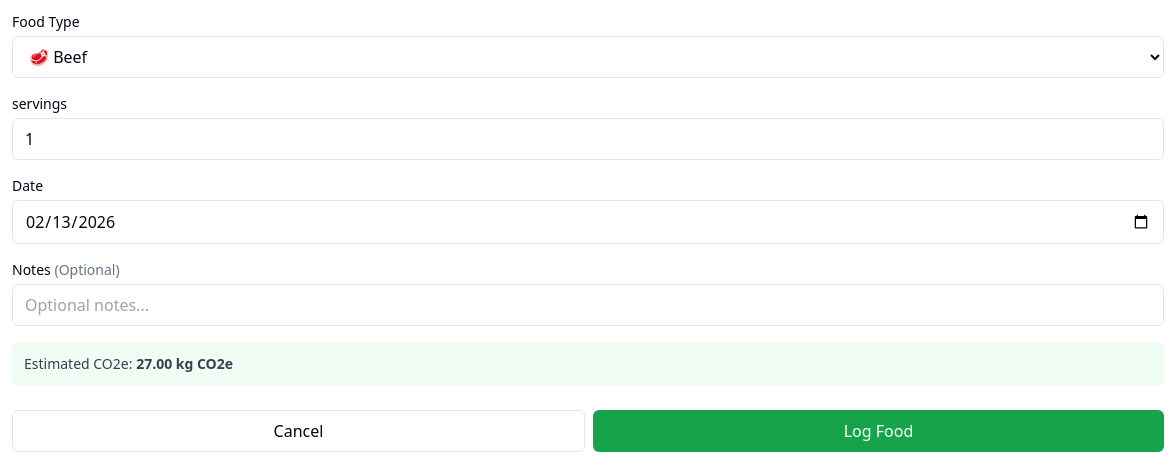
Test: FoodForm › resets form when cancel is clicked
The width and height of the screenshot is (1176, 469).
Type "5" into the number field with test id "food-servings-input" at (588, 139), box [12,118,1164,160]
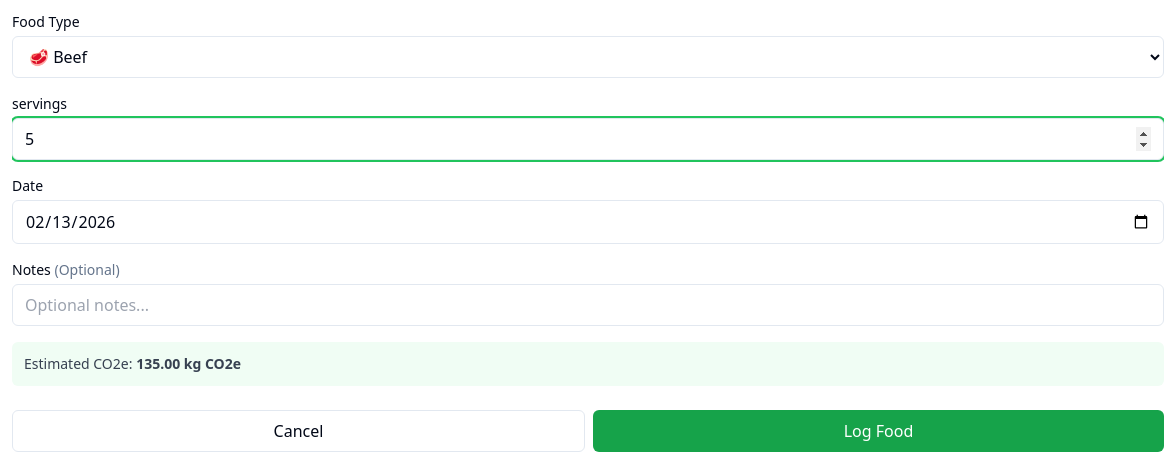
Type "Test note" into the field with test id "food-notes-input" at (588, 305), box [12,284,1164,326]
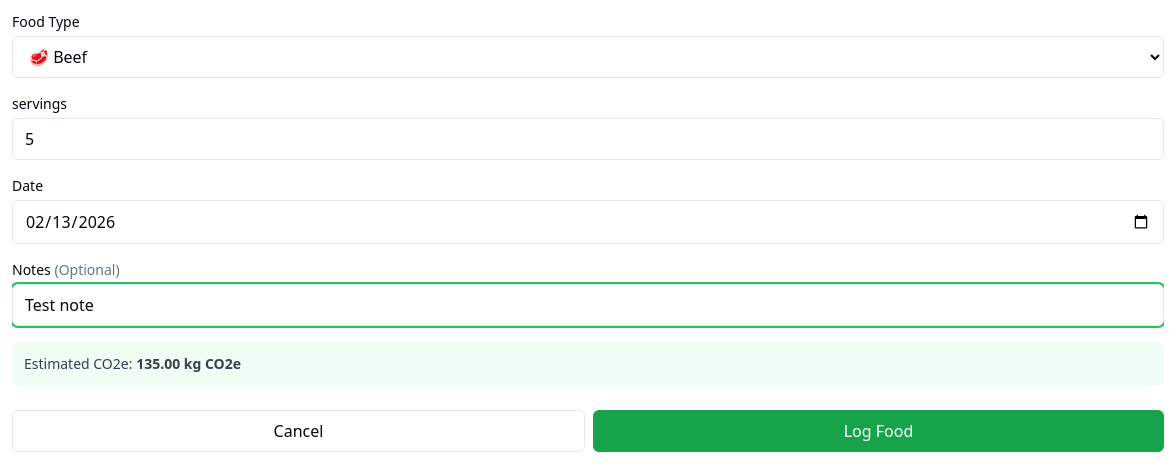
Click the button "Cancel" at (298, 431), box [12,410,585,452]
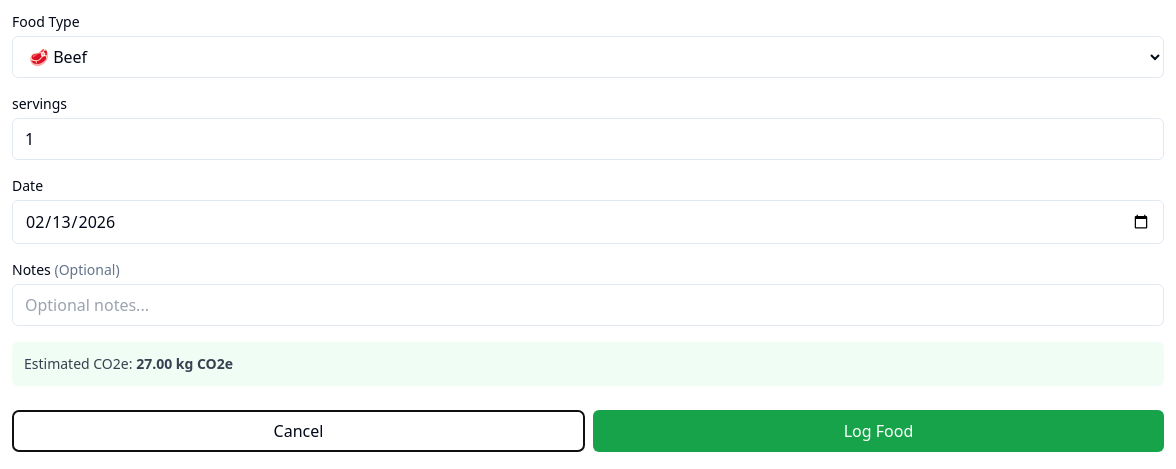
Check: the number field with test id "food-servings-input" holds "1", box [12,118,1164,160]
Check: the field with test id "food-notes-input" is empty, box [12,284,1164,326]
